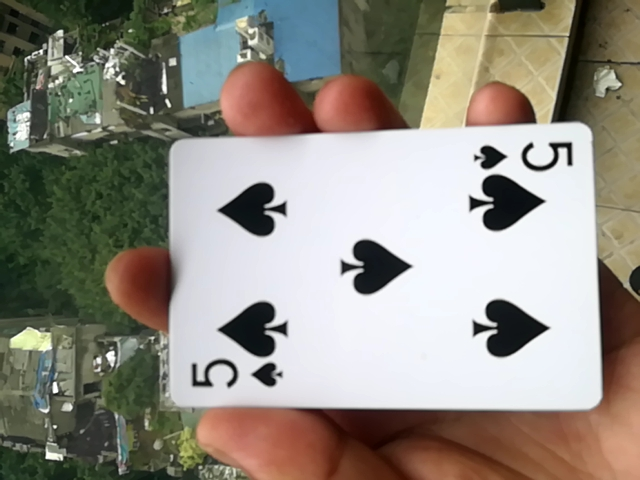ht 5: (141, 125, 602, 420)
